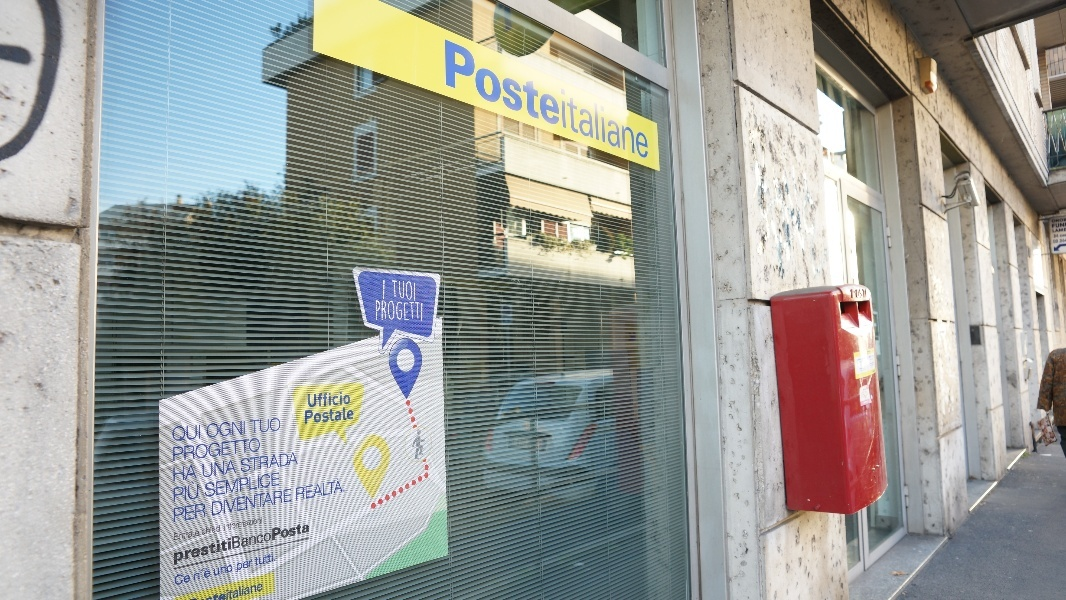text: (449, 38, 464, 161), (465, 38, 480, 161), (481, 38, 496, 161), (497, 38, 512, 161), (513, 38, 528, 161), (529, 38, 544, 161), (545, 38, 560, 161), (561, 38, 576, 161), (577, 38, 592, 161), (593, 38, 608, 161), (609, 38, 624, 161), (625, 38, 640, 161), (641, 38, 649, 161), (177, 514, 192, 566), (193, 514, 208, 566), (209, 514, 224, 566), (225, 514, 240, 566), (241, 514, 256, 566), (257, 514, 272, 566), (273, 514, 288, 566), (289, 514, 304, 566), (225, 488, 240, 517), (241, 488, 256, 517), (257, 488, 272, 517), (273, 488, 288, 517), (209, 472, 224, 498), (225, 472, 240, 498), (241, 472, 256, 498), (257, 472, 272, 498), (305, 477, 320, 502), (321, 477, 336, 502), (445, 38, 448, 161), (177, 438, 192, 462), (193, 438, 208, 462), (209, 438, 224, 462), (225, 438, 240, 462), (241, 438, 256, 462), (401, 280, 417, 302), (212, 488, 224, 517), (177, 480, 192, 503), (385, 300, 400, 322), (401, 300, 416, 322), (241, 452, 256, 473), (257, 452, 272, 473), (273, 452, 288, 473), (177, 503, 192, 524), (241, 579, 256, 600), (193, 503, 206, 524), (305, 407, 320, 425), (321, 407, 336, 425), (337, 407, 352, 425), (177, 425, 192, 443), (209, 421, 224, 439), (225, 421, 240, 439), (209, 460, 224, 478), (305, 514, 310, 566), (177, 465, 192, 482), (1057, 217, 1064, 253), (321, 392, 336, 408), (257, 418, 272, 434), (229, 579, 240, 600), (337, 477, 346, 502), (225, 460, 237, 478), (1050, 217, 1056, 253), (225, 517, 240, 531), (241, 517, 256, 531), (194, 567, 208, 582), (257, 553, 272, 567), (337, 392, 350, 408), (296, 477, 304, 502), (391, 280, 400, 302), (308, 392, 320, 408), (289, 452, 298, 473), (273, 472, 280, 498), (376, 300, 384, 322), (209, 524, 223, 536), (177, 574, 191, 586), (193, 480, 200, 503), (177, 531, 193, 541), (241, 560, 253, 573), (417, 300, 424, 322), (226, 589, 240, 600), (193, 425, 201, 443), (273, 418, 282, 434), (257, 579, 263, 600), (214, 565, 224, 577), (851, 289, 864, 298), (174, 514, 176, 566), (250, 418, 256, 434), (257, 438, 261, 462), (225, 565, 233, 577), (195, 530, 208, 537), (203, 460, 208, 478), (289, 488, 292, 517), (193, 465, 198, 482), (257, 517, 263, 531), (205, 472, 208, 498), (172, 425, 176, 443), (241, 421, 245, 439), (173, 438, 176, 462), (202, 524, 208, 536), (173, 480, 176, 503), (205, 421, 208, 439), (173, 465, 176, 482), (382, 279, 384, 300), (174, 503, 176, 524), (273, 553, 276, 567), (237, 560, 240, 573), (173, 574, 176, 586), (209, 567, 211, 582), (385, 279, 386, 300), (174, 531, 176, 541), (353, 407, 354, 425), (255, 553, 256, 567), (865, 289, 866, 298)
